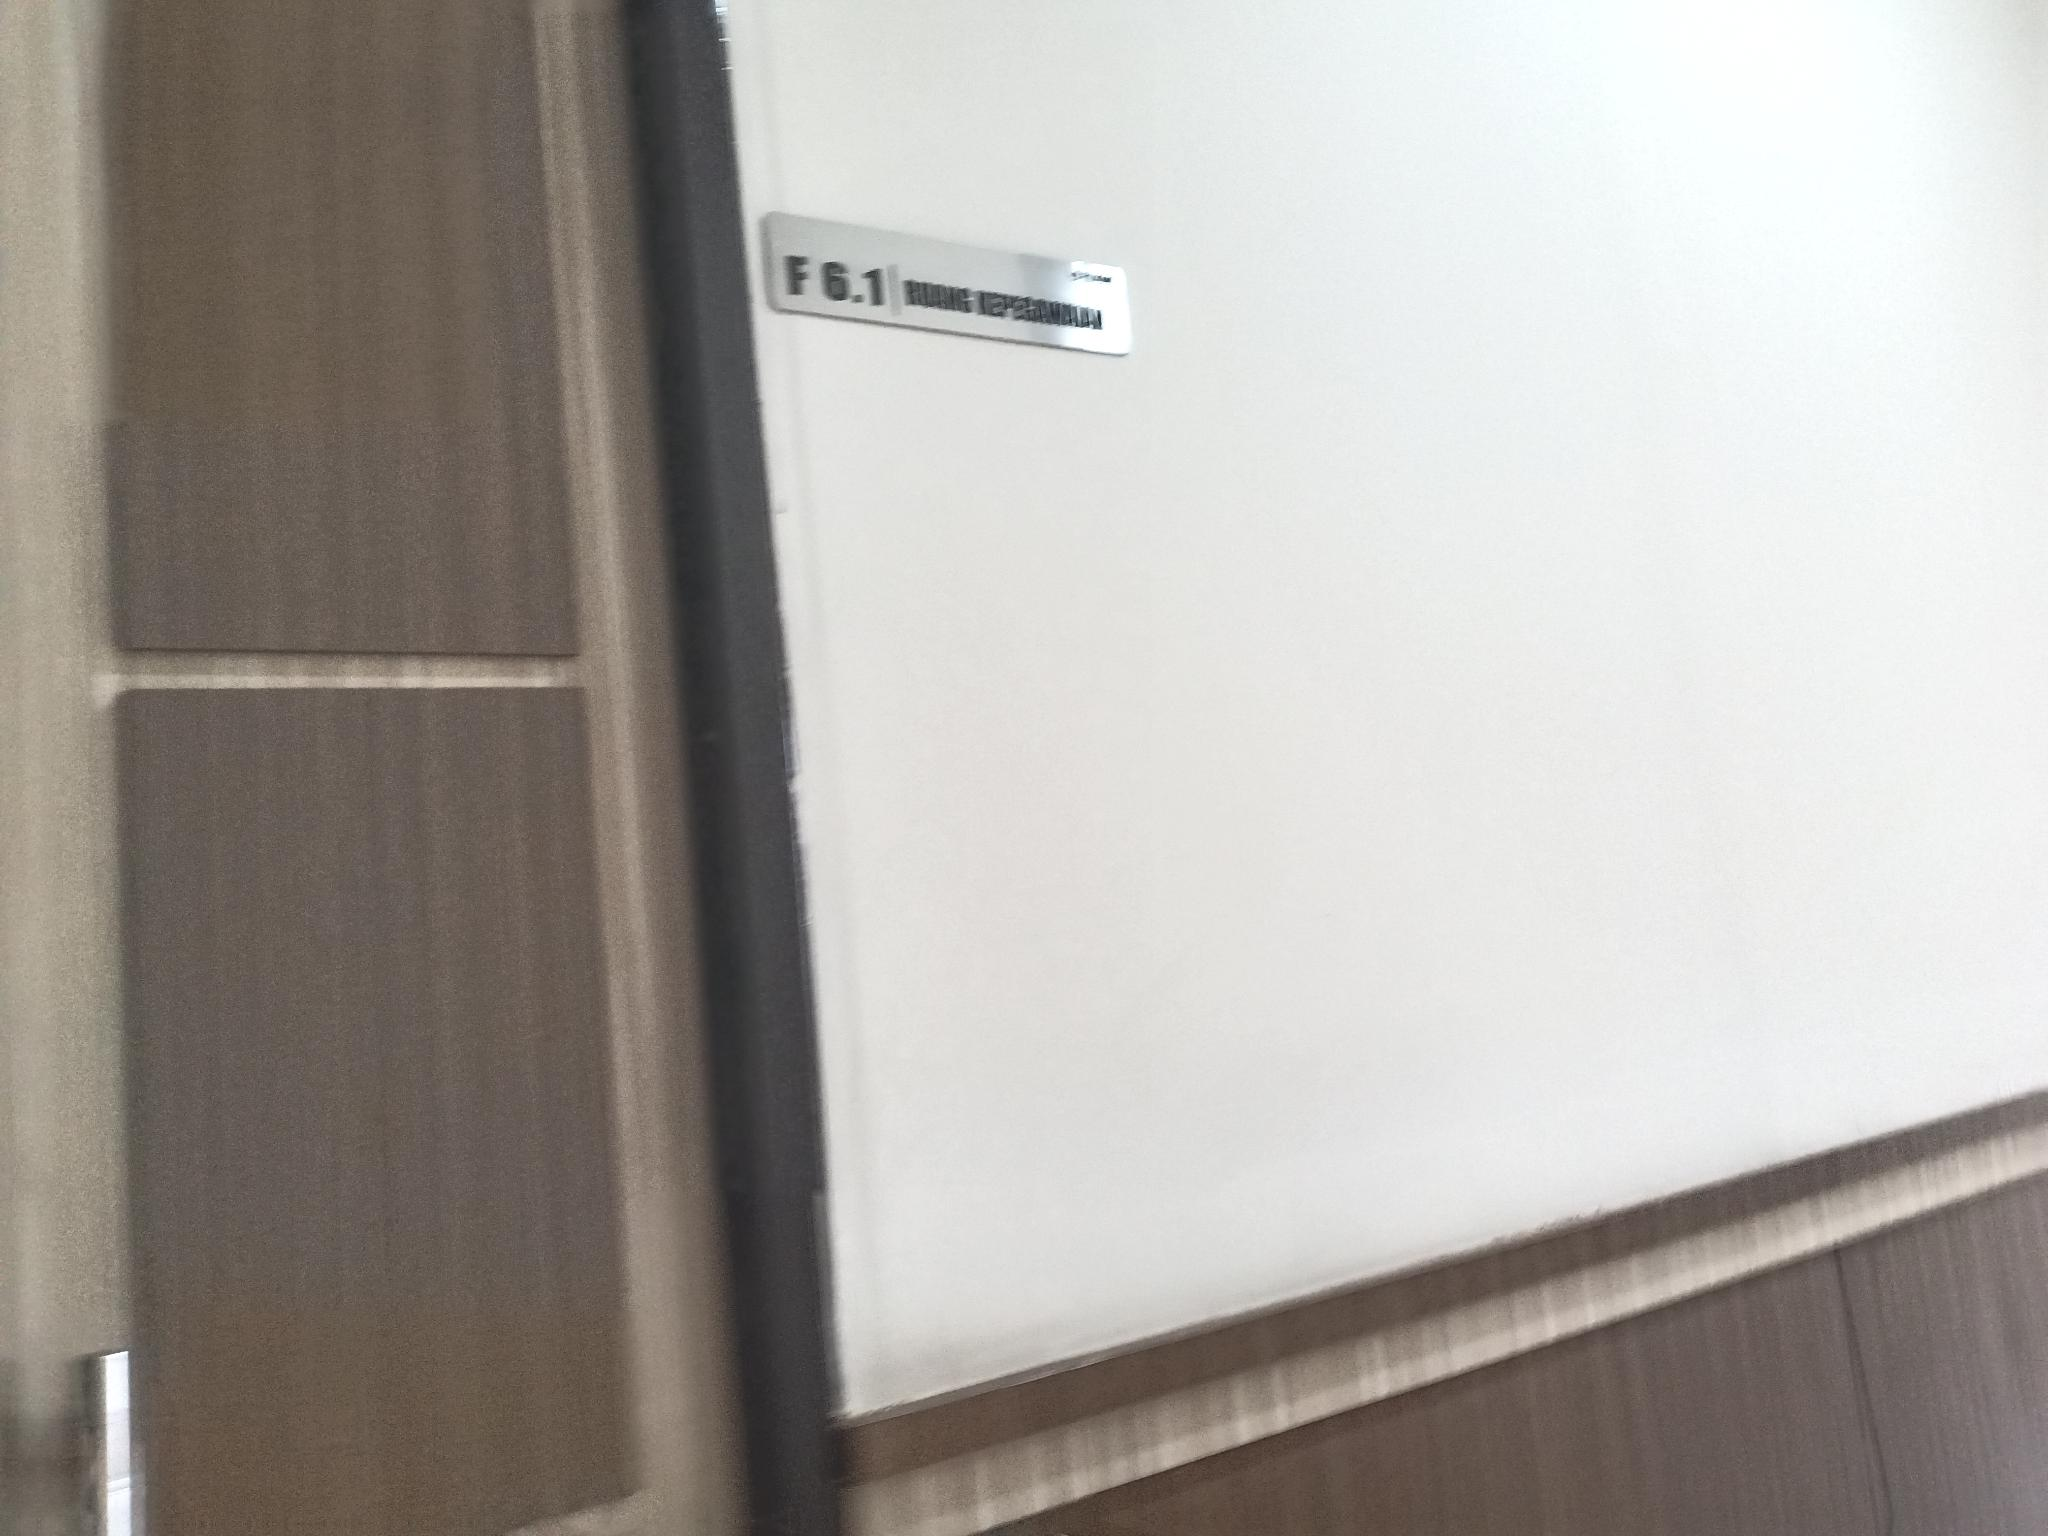plate: (764, 208, 1132, 357)
